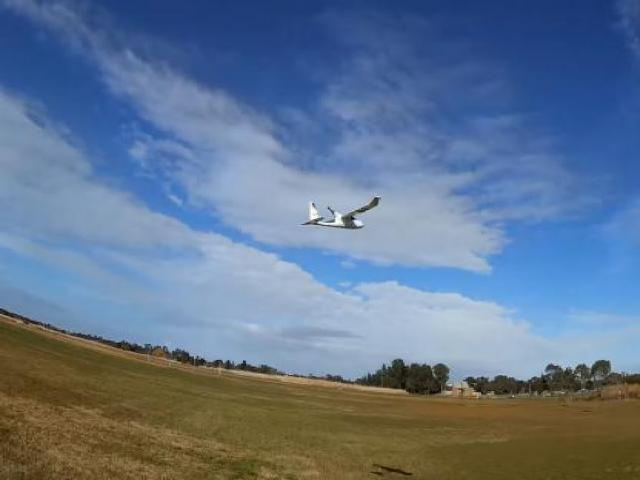uav: (297, 187, 388, 239)
